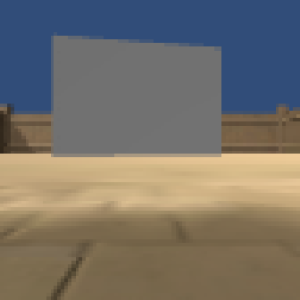wall: (49, 34, 222, 157)
